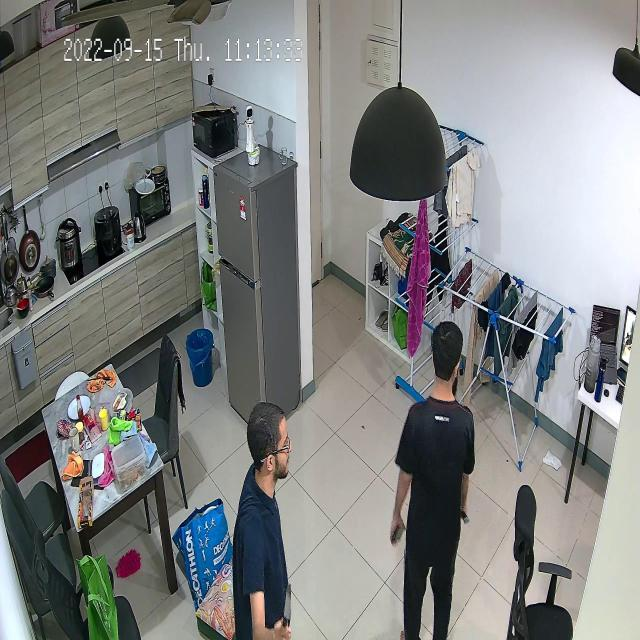Knife: (274, 576, 299, 629)
